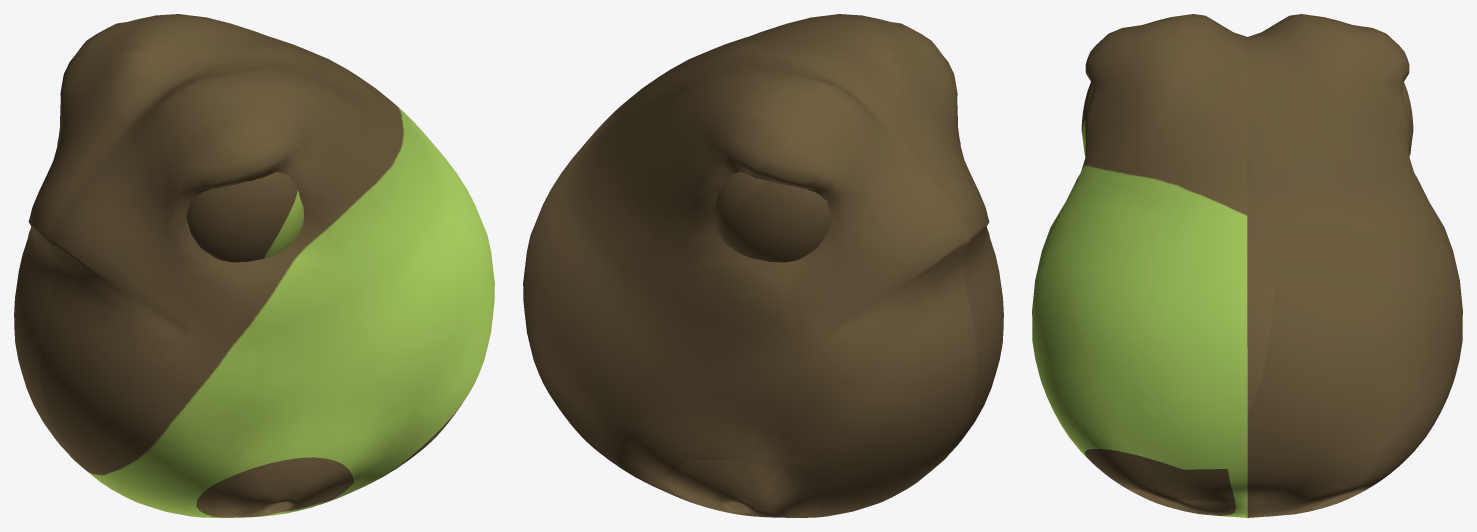
Rendered from Frog@MorphOut.FBX.
3 renders of one model, left to right at view 1: azimuth 30°, elevation 25°; view 2: azimuth 150°, elevation 25°; view 3: azimuth 270°, elevation 25°, orthographic.
Parts seen in each view (by area): view 1: FrogRetop2; view 2: FrogRetop2; view 3: FrogRetop2.
Part boxes in pixels (<box>): FrogRetop2: <box>14,14,494,517</box>; FrogRetop2: <box>523,14,1003,517</box>; FrogRetop2: <box>1032,14,1462,517</box>.
Bounding box in the file's own units: 81.75 × 75.27 × 85.53.
